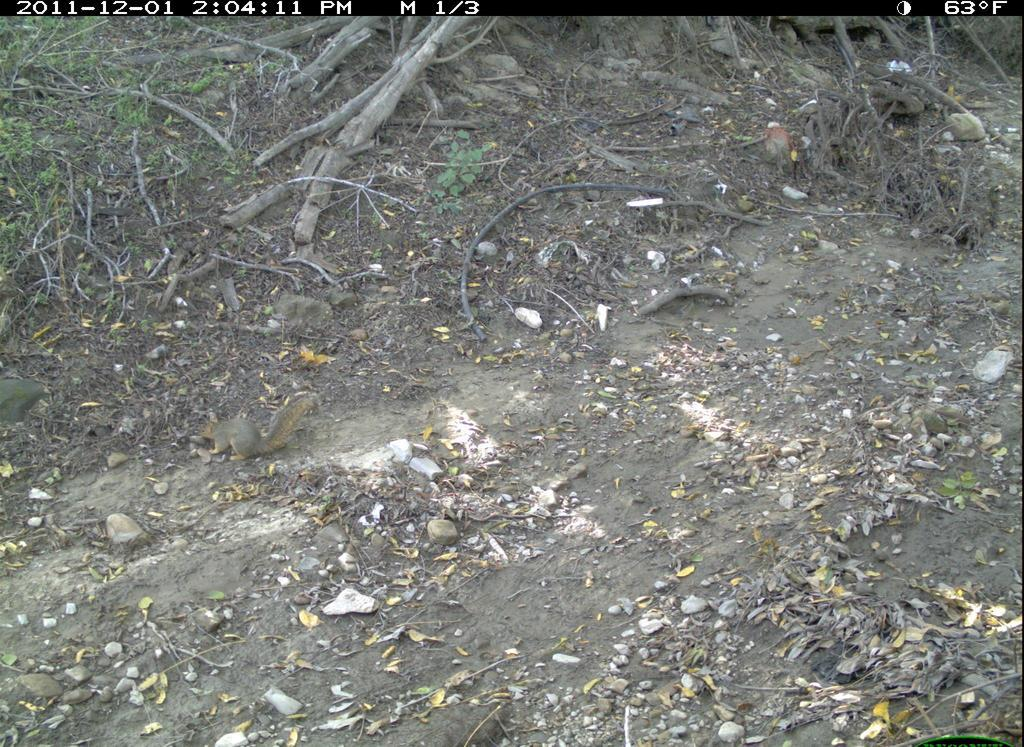squirrel: (172, 358, 342, 478)
